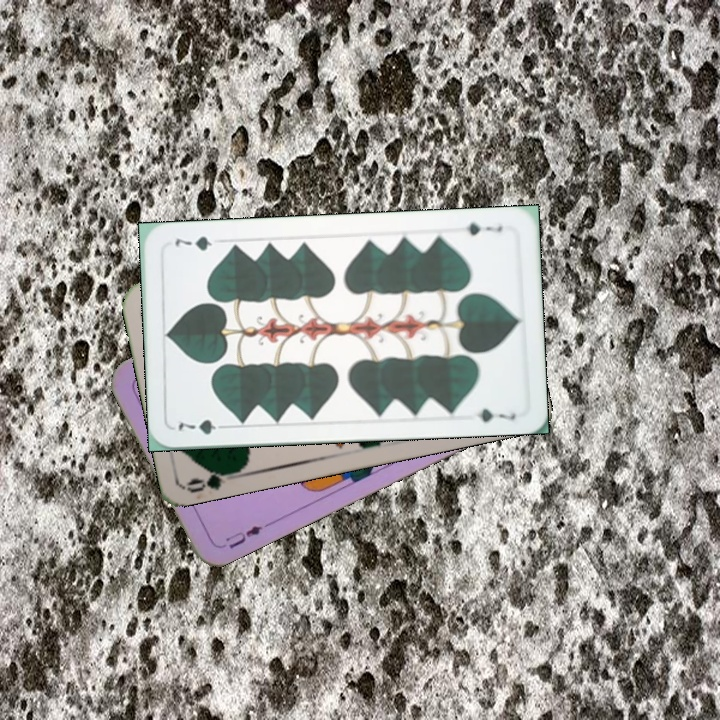EU: (214, 520, 270, 552)
G7: (174, 415, 232, 437), (462, 218, 505, 238)
GO: (184, 465, 243, 496)
